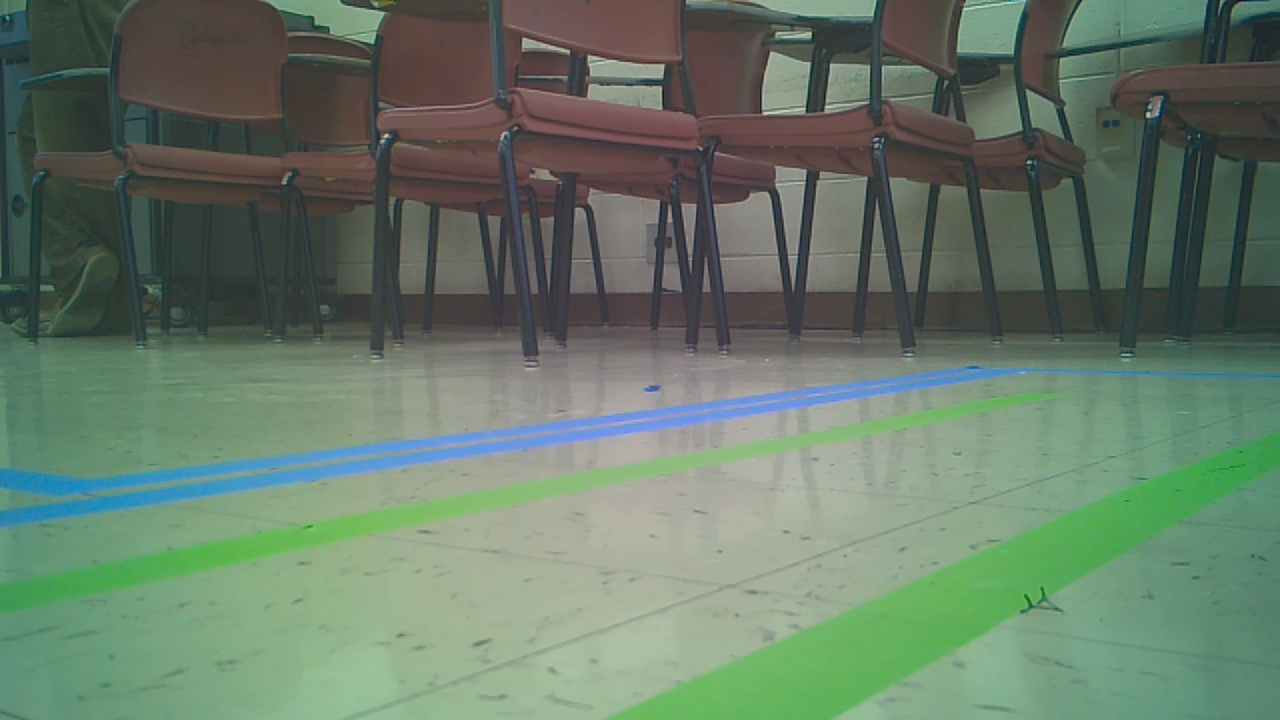greenline: (12, 391, 1059, 609), (616, 421, 1273, 716)
